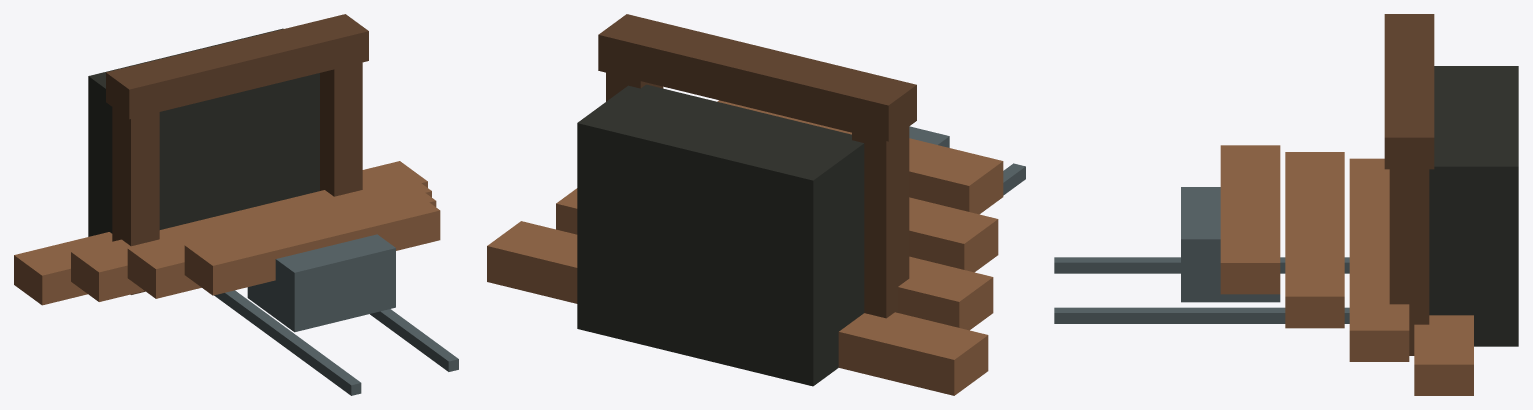
Rendered from custom-imp-coppermine.glb.
The picture shows the model from 3 angles, left to right: view 1: azimuth 30°, elevation 25°; view 2: azimuth 150°, elevation 25°; view 3: azimuth 270°, elevation 25°; orthographic projection. The views are drawn at different scales.
Parts seen in each view (by area): view 1: custom-imp-coppermine; view 2: custom-imp-coppermine; view 3: custom-imp-coppermine.
Boxes of the visible parts, x1=… form: custom-imp-coppermine: x1=14, y1=14, x2=458, y2=395; custom-imp-coppermine: x1=487, y1=14, x2=1025, y2=395; custom-imp-coppermine: x1=1054, y1=14, x2=1518, y2=395.
Size of the model in its own units: 1 by 0.5158 by 0.9842.
